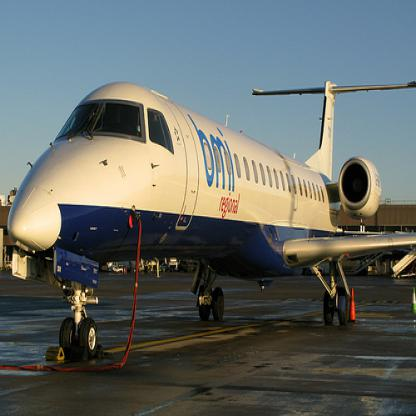aeroplane: (8, 81, 415, 356)
